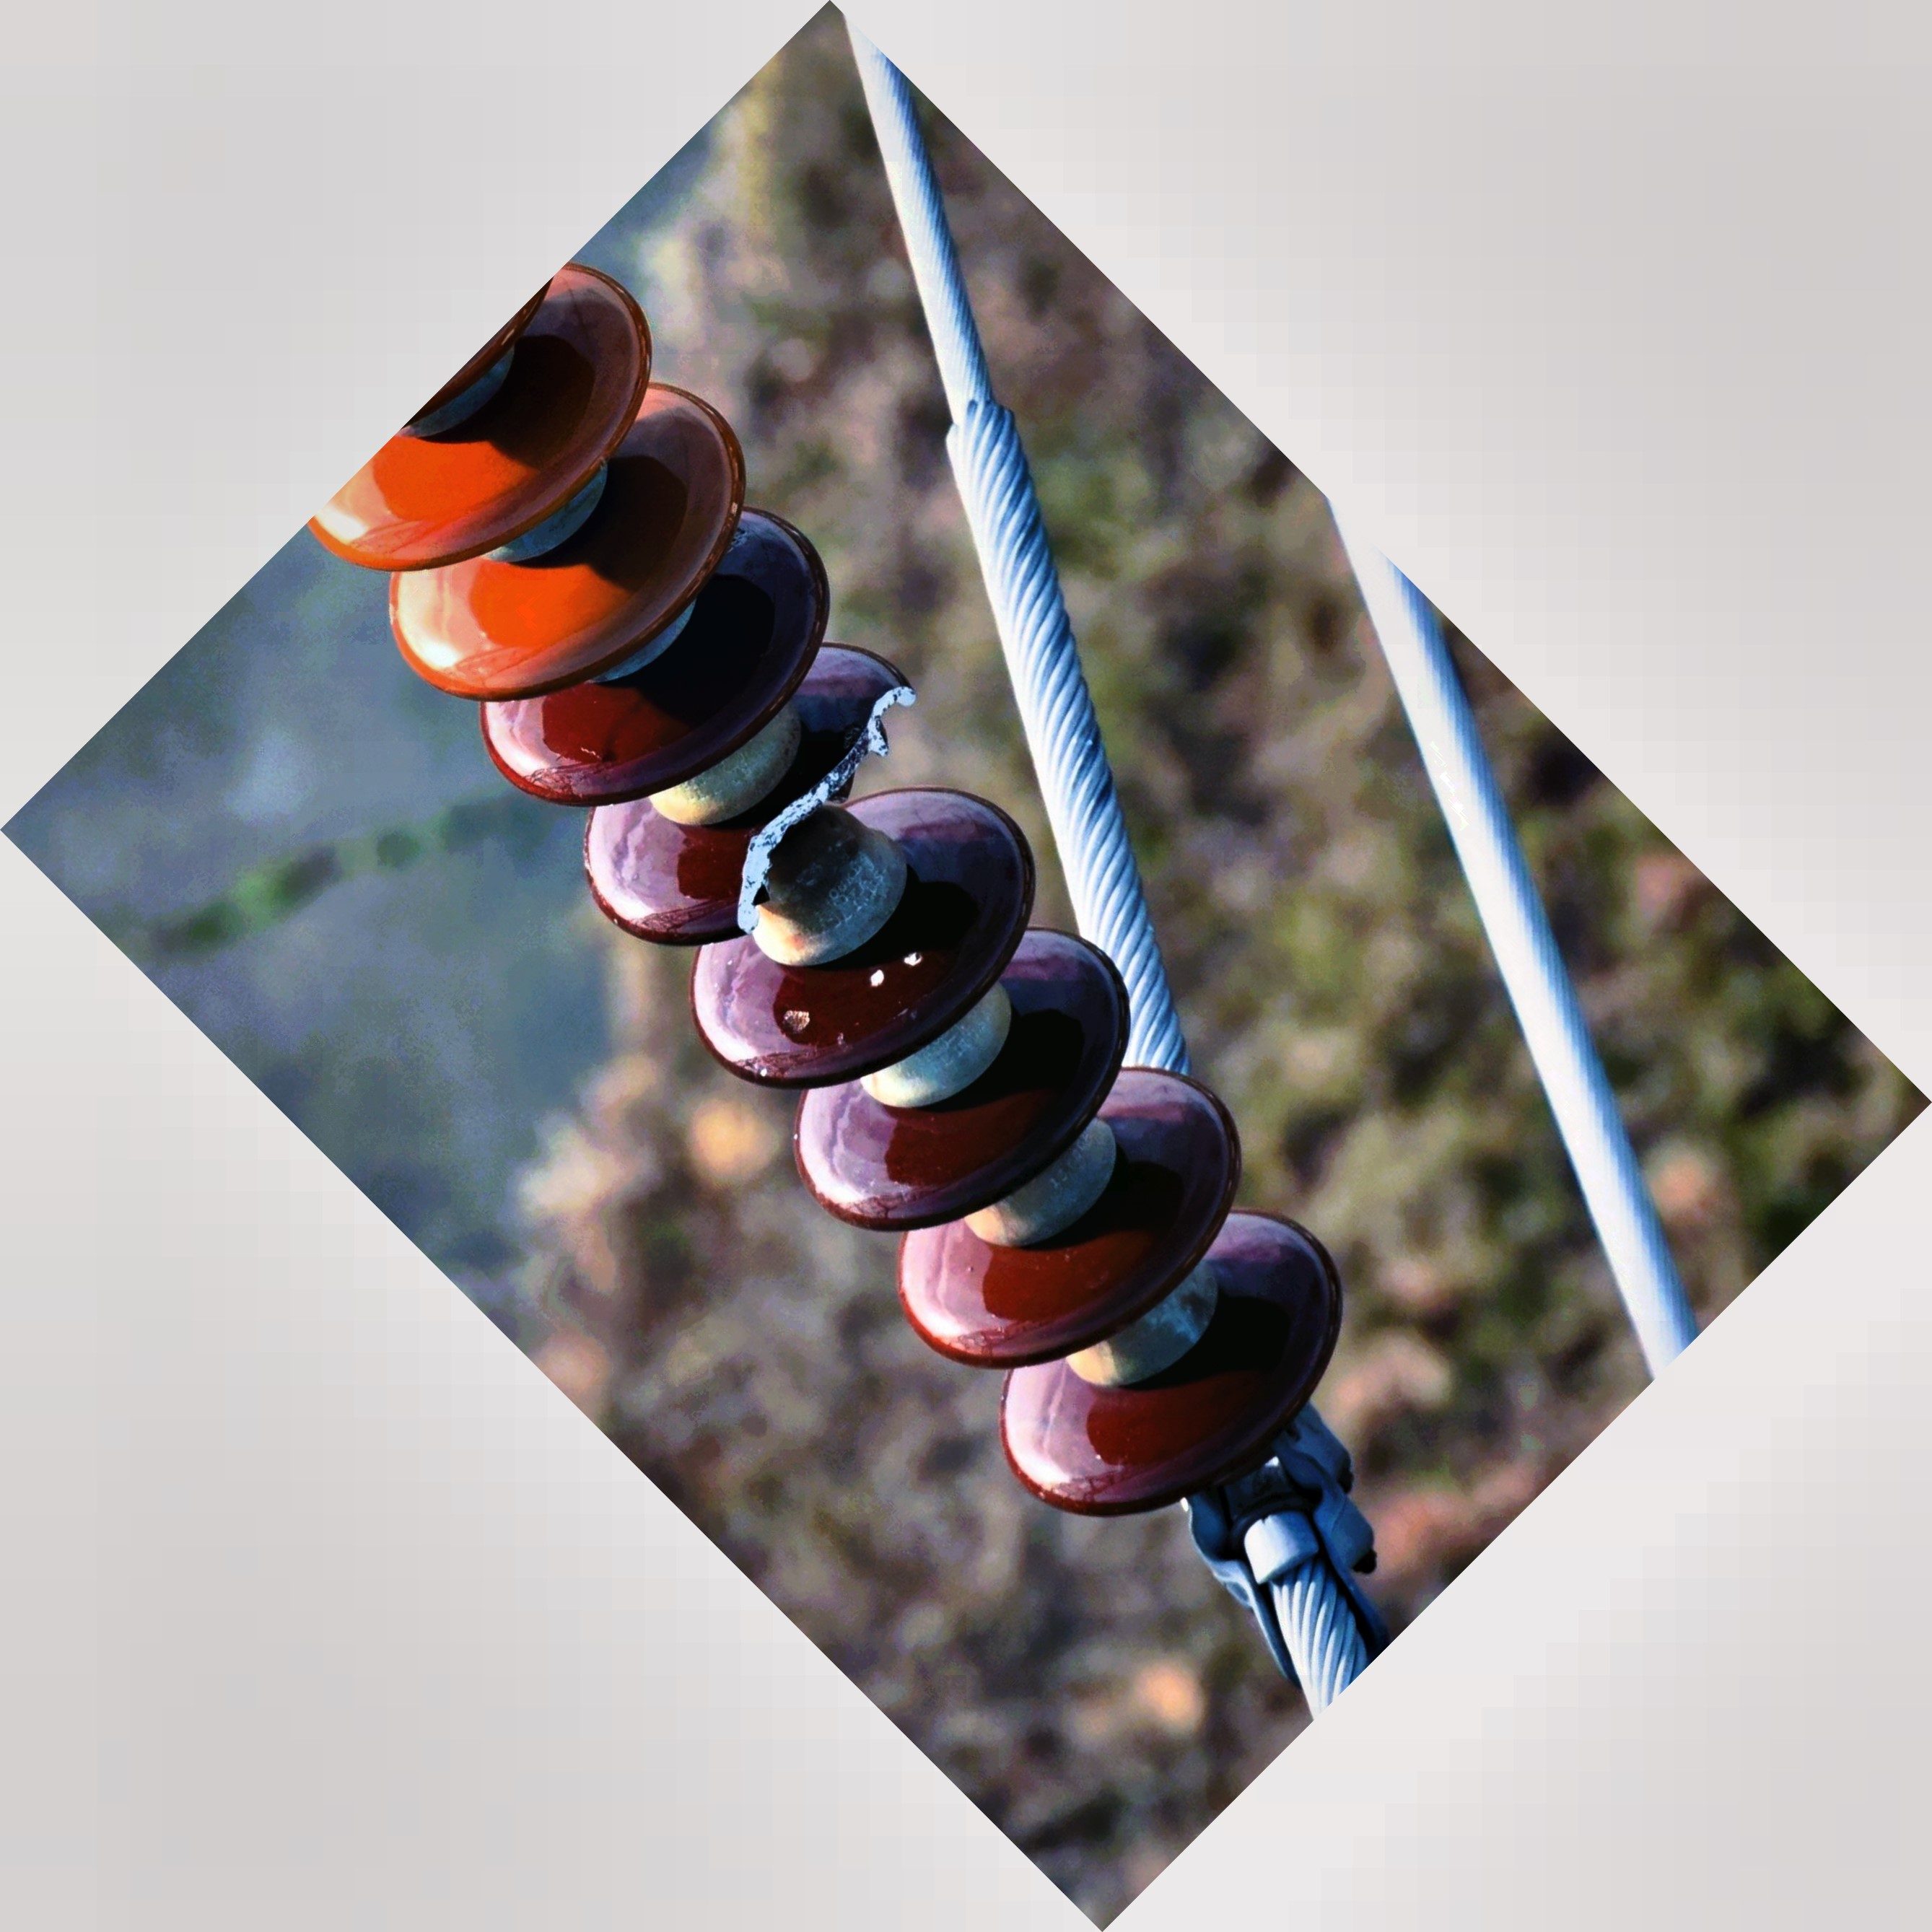insulator breakage: (573, 640, 938, 950)
